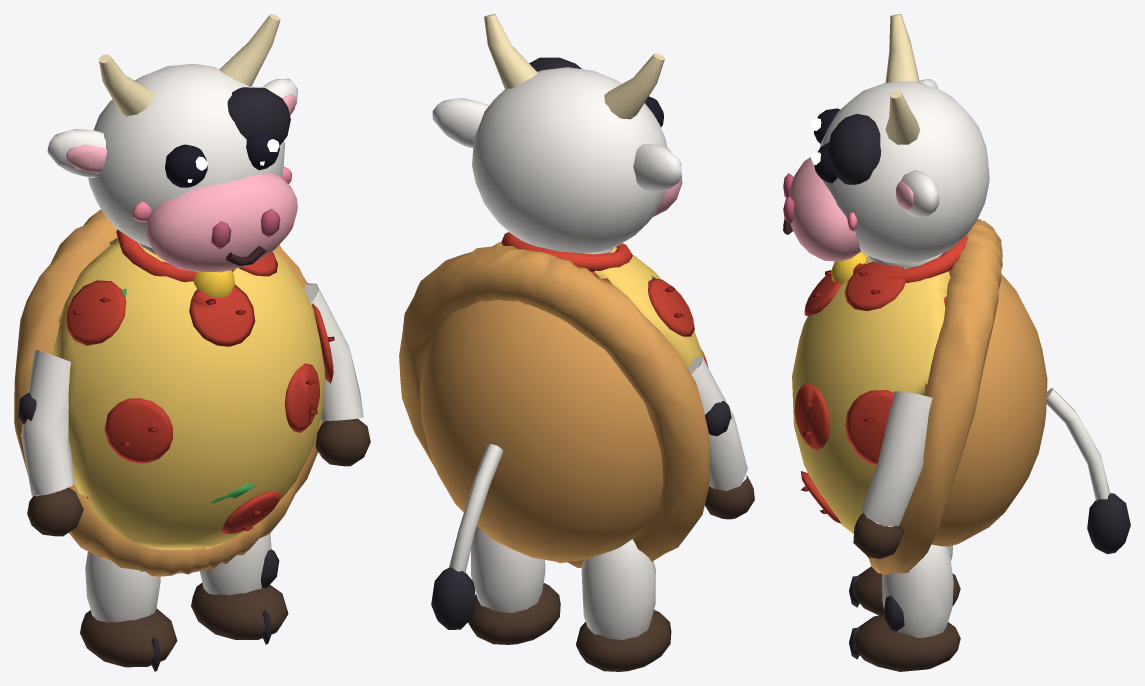
File: pilot_ku2_pizza_lav.glb
3 renders of one model, left to right at view 1: azimuth 30°, elevation 25°; view 2: azimuth 150°, elevation 25°; view 3: azimuth 270°, elevation 25°, orthographic. The views are drawn at different scales.
Visible parts, largest first — view 1: kropp, hode, vinge_v, bein_vf, bein_hf, vinge_h; view 2: kropp, hode, bein_vf, bein_hf, vinge_v, hale; view 3: kropp, hode, bein_hf, vinge_h, hale, bein_vf.
Part boxes in pixels (x1,y1,x2,y2): kropp: (14, 209, 334, 576); hode: (47, 14, 297, 297); vinge_v: (18, 350, 83, 536); bein_vf: (80, 551, 177, 671); bein_hf: (191, 533, 288, 644); vinge_h: (304, 283, 370, 466); kropp: (399, 242, 709, 567); hode: (432, 14, 682, 271); bein_vf: (576, 539, 671, 671); bein_hf: (468, 526, 560, 644); vinge_v: (688, 356, 754, 519); hale: (431, 444, 503, 629); kropp: (792, 219, 1047, 574); hode: (783, 14, 989, 283); bein_hf: (849, 544, 960, 671); vinge_h: (853, 391, 932, 559); hale: (1046, 388, 1130, 554); bein_vf: (849, 545, 960, 615).
Size of the model in its own units: 1.03 by 1.8 by 0.9645.
